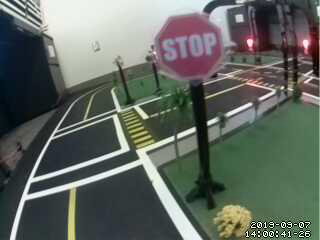Stop_Sign: (142, 11, 229, 85)
